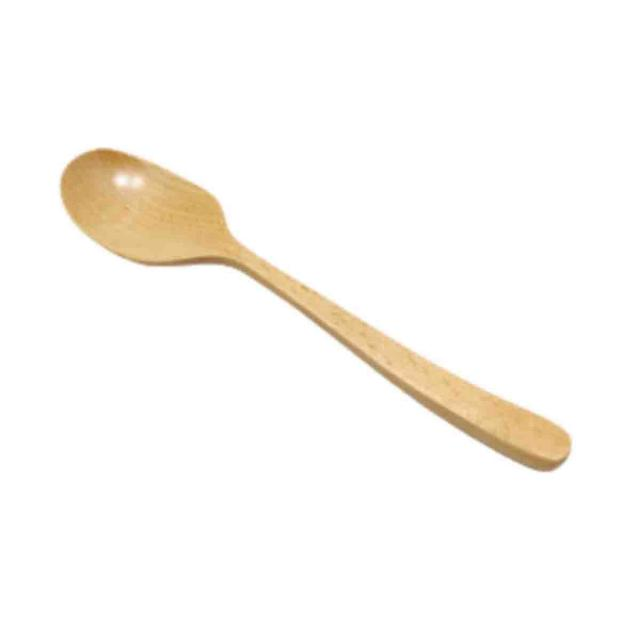spoon: (45, 134, 566, 514)
